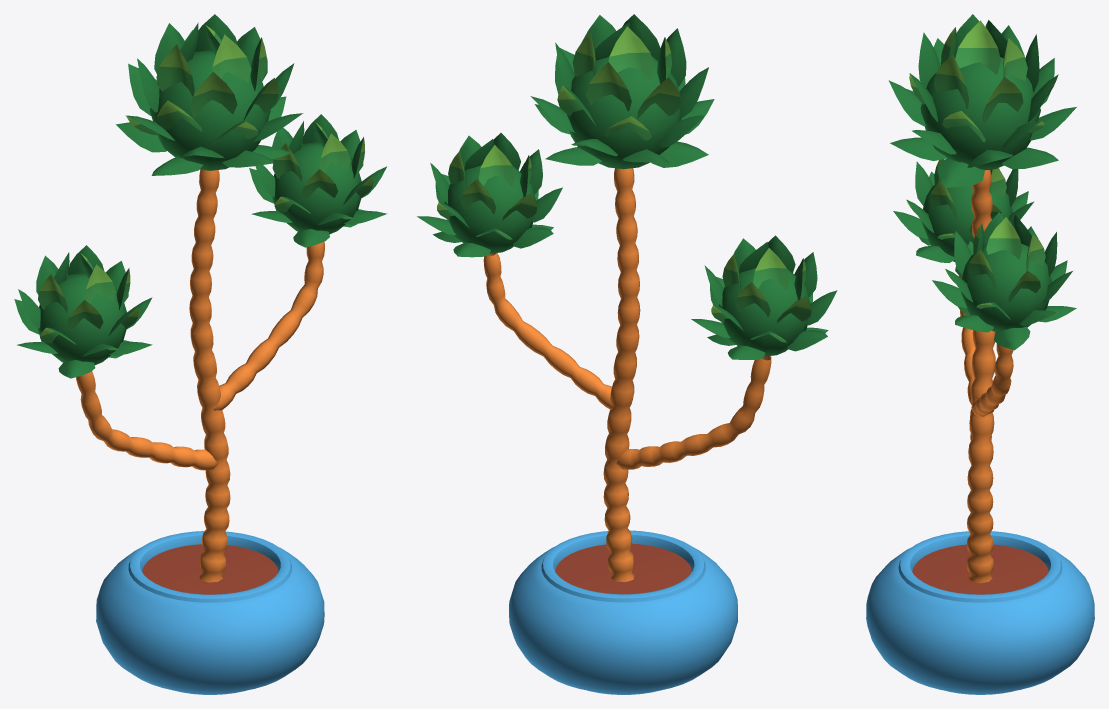
Rendered from planta_arvore_pompons.glb.
The picture shows the model from 3 angles, left to right: view 1: azimuth 30°, elevation 25°; view 2: azimuth 150°, elevation 25°; view 3: azimuth 270°, elevation 25°; orthographic projection.
Parts seen in each view (by area): view 1: planta_arvore_pompons; view 2: planta_arvore_pompons; view 3: planta_arvore_pompons.
Boxes of the visible parts, x1,y1,x2,y2 form: planta_arvore_pompons: (14, 14, 387, 694); planta_arvore_pompons: (417, 14, 837, 694); planta_arvore_pompons: (866, 14, 1094, 694).
Bounding box in the file's own units: 1.02 × 1.64 × 0.53.
1 material, 1 textured.
